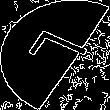L_SE: (18, 29, 92, 81)
